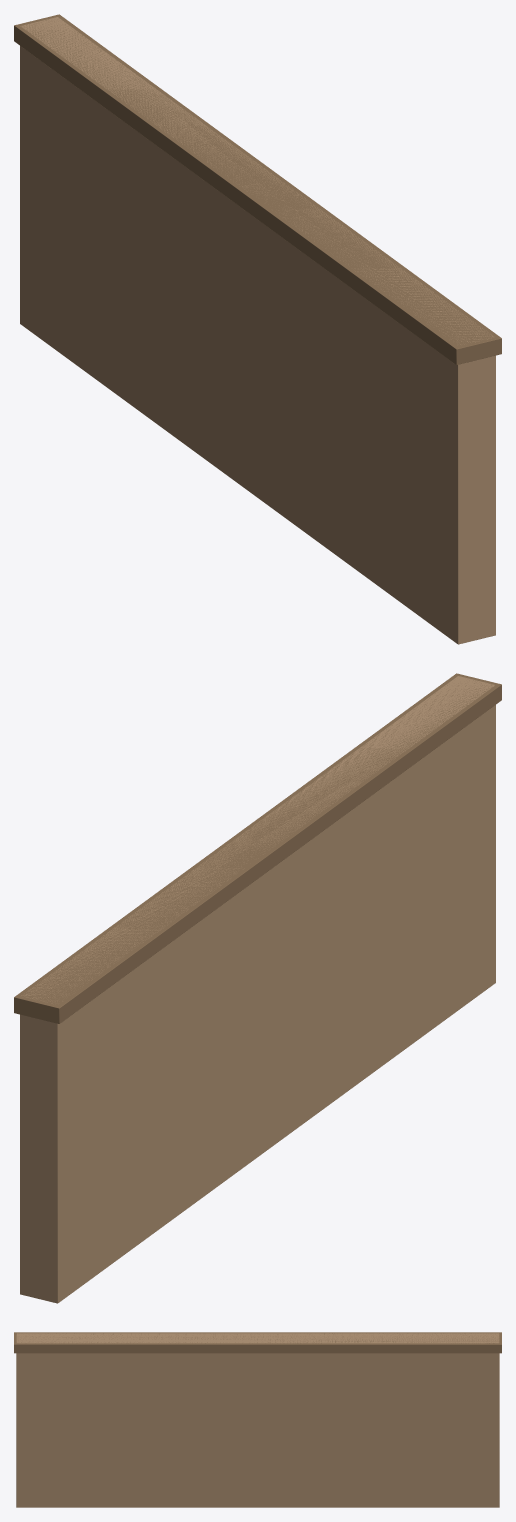
File: SM_BLD_WALL_HALF.fbx
The picture shows the model from 3 angles, top to bottom: view 1: azimuth 30°, elevation 25°; view 2: azimuth 150°, elevation 25°; view 3: azimuth 270°, elevation 25°; orthographic projection. The views are drawn at different scales.
Visible parts, largest first — view 1: SM_BLD_WALL_HALF; view 2: SM_BLD_WALL_HALF; view 3: SM_BLD_WALL_HALF.
Boxes of the visible parts, bbox=[...] form: SM_BLD_WALL_HALF: bbox=[14, 14, 501, 644]; SM_BLD_WALL_HALF: bbox=[14, 673, 501, 1303]; SM_BLD_WALL_HALF: bbox=[14, 1332, 501, 1507].
Size of what is drawn, in the model's own units: 0.24 by 1.5 by 4.04.
